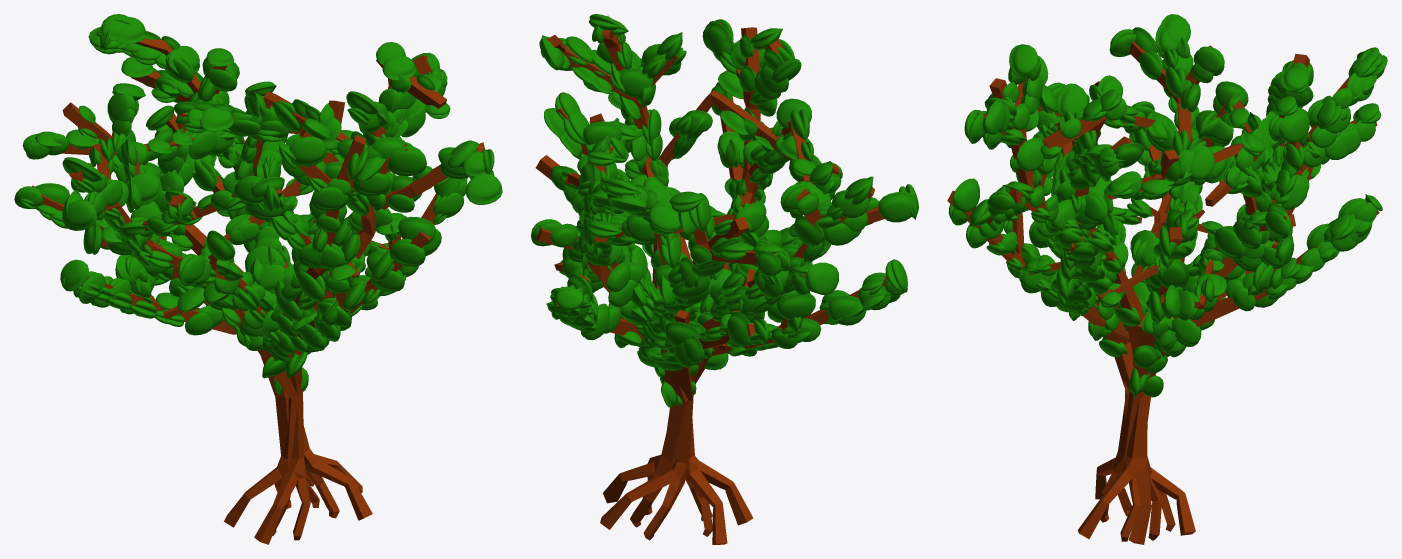
File: Better trees for ass 3 .fbx
The picture shows the model from 3 angles, left to right: view 1: azimuth 30°, elevation 25°; view 2: azimuth 150°, elevation 25°; view 3: azimuth 270°, elevation 25°; orthographic projection. The views are drawn at different scales.
Parts seen in each view (by area): view 1: Tree, Tree|Leaf|Dupli|526, Tree|Leaf|Dupli|746, Tree|Leaf|Dupli|738, Tree|Leaf|Dupli|205, Tree|Leaf|Dupli|584, Tree|Leaf|Dupli|144, Tree|Leaf|Dupli|585, Tree|Leaf|Dupli|370, Tree|Leaf|Dupli|110, Tree|Leaf|Dupli|439, Tree|Leaf|Dupli|44 (+8 smaller); view 2: Tree, Tree|Leaf|Dupli|50, Tree|Leaf|Dupli|106, Tree|Leaf|Dupli|265, Tree|Leaf|Dupli|111, Tree|Leaf|Dupli|237, Tree|Leaf|Dupli|375, Tree|Leaf|Dupli|653, Tree|Leaf|Dupli|191, Tree|Leaf|Dupli|490, Tree|Leaf|Dupli|257, Tree|Leaf|Dupli|319 (+24 smaller); view 3: Tree, Tree|Leaf|Dupli|602, Tree|Leaf|Dupli|101, Tree|Leaf|Dupli|272, Tree|Leaf|Dupli|218, Tree|Leaf|Dupli|585, Tree|Leaf|Dupli|650, Tree|Leaf|Dupli|610, Tree|Leaf|Dupli|91, Tree|Leaf|Dupli|667, Tree|Leaf|Dupli|457, Tree|Leaf|Dupli|108 (+10 smaller).
Part boxes in pixels (x1,y1,x2,y2): Tree: (32, 38, 484, 544); Tree|Leaf|Dupli|526: (387, 146, 426, 176); Tree|Leaf|Dupli|746: (465, 173, 502, 204); Tree|Leaf|Dupli|738: (289, 136, 326, 166); Tree|Leaf|Dupli|205: (62, 200, 96, 230); Tree|Leaf|Dupli|584: (389, 238, 425, 266); Tree|Leaf|Dupli|144: (311, 187, 348, 211); Tree|Leaf|Dupli|585: (398, 216, 436, 245); Tree|Leaf|Dupli|370: (178, 253, 205, 286); Tree|Leaf|Dupli|110: (60, 259, 88, 291); Tree|Leaf|Dupli|439: (200, 107, 233, 131); Tree|Leaf|Dupli|44: (382, 55, 416, 80); Tree: (535, 23, 887, 544); Tree|Leaf|Dupli|50: (878, 191, 917, 222); Tree|Leaf|Dupli|106: (805, 262, 838, 294); Tree|Leaf|Dupli|265: (776, 293, 815, 319); Tree|Leaf|Dupli|111: (648, 203, 680, 233); Tree|Leaf|Dupli|237: (828, 295, 866, 325); Tree|Leaf|Dupli|375: (619, 68, 653, 96); Tree|Leaf|Dupli|653: (583, 121, 621, 144); Tree|Leaf|Dupli|191: (794, 215, 824, 246); Tree|Leaf|Dupli|490: (665, 321, 700, 346); Tree|Leaf|Dupli|257: (833, 190, 869, 218); Tree|Leaf|Dupli|319: (776, 98, 811, 128); Tree: (947, 42, 1379, 544); Tree|Leaf|Dupli|602: (1279, 109, 1309, 142); Tree|Leaf|Dupli|101: (1009, 44, 1038, 76); Tree|Leaf|Dupli|272: (1056, 83, 1087, 116); Tree|Leaf|Dupli|218: (1214, 226, 1245, 259); Tree|Leaf|Dupli|585: (952, 178, 979, 211); Tree|Leaf|Dupli|650: (1190, 145, 1214, 179); Tree|Leaf|Dupli|610: (1270, 174, 1307, 209); Tree|Leaf|Dupli|91: (1193, 47, 1224, 75); Tree|Leaf|Dupli|667: (1170, 317, 1201, 346); Tree|Leaf|Dupli|457: (1157, 259, 1189, 287); Tree|Leaf|Dupli|108: (1280, 67, 1309, 92).
Size of the model in its own units: 1082 by 1269 by 1056.
